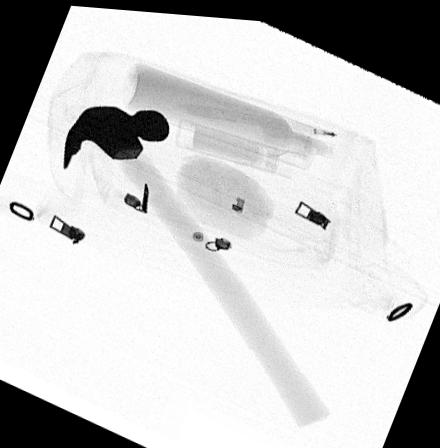Hammer: (62, 103, 330, 423)
